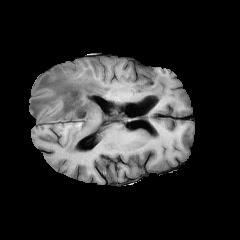glioma: (29, 68, 166, 153)
